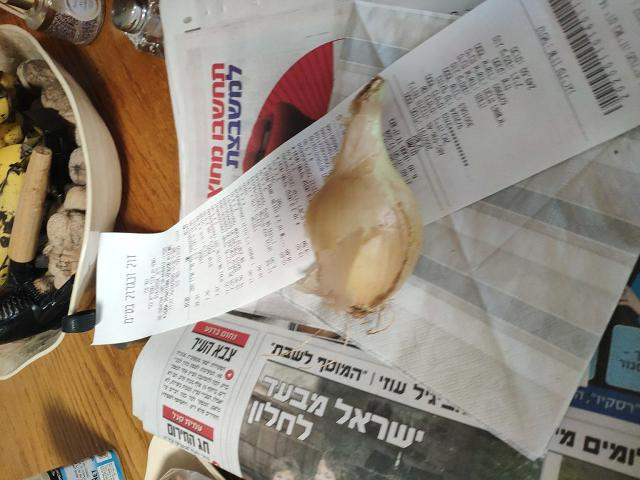onion: (314, 131, 412, 309)
